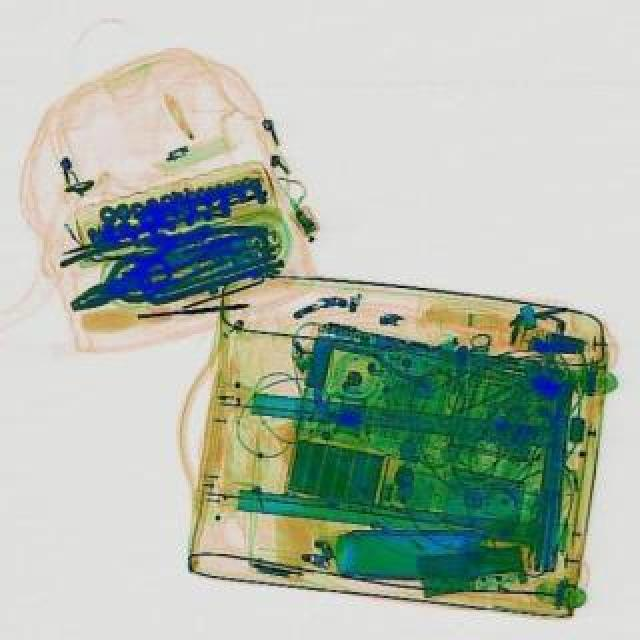wrench: (58, 228, 222, 320)
